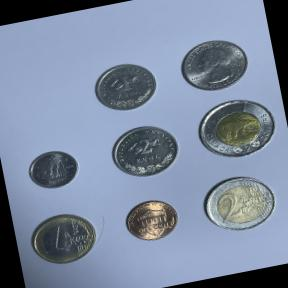1 Euro: (24, 206, 104, 270)
2 Euro: (196, 167, 282, 239)
Canda-10cent-: (23, 144, 84, 195)
Canda-2Dollar-: (189, 90, 284, 166)
Croatia-2Kune-: (103, 118, 187, 184)
US-1cent-: (119, 194, 183, 246)
US-25cent-: (173, 31, 256, 98)
